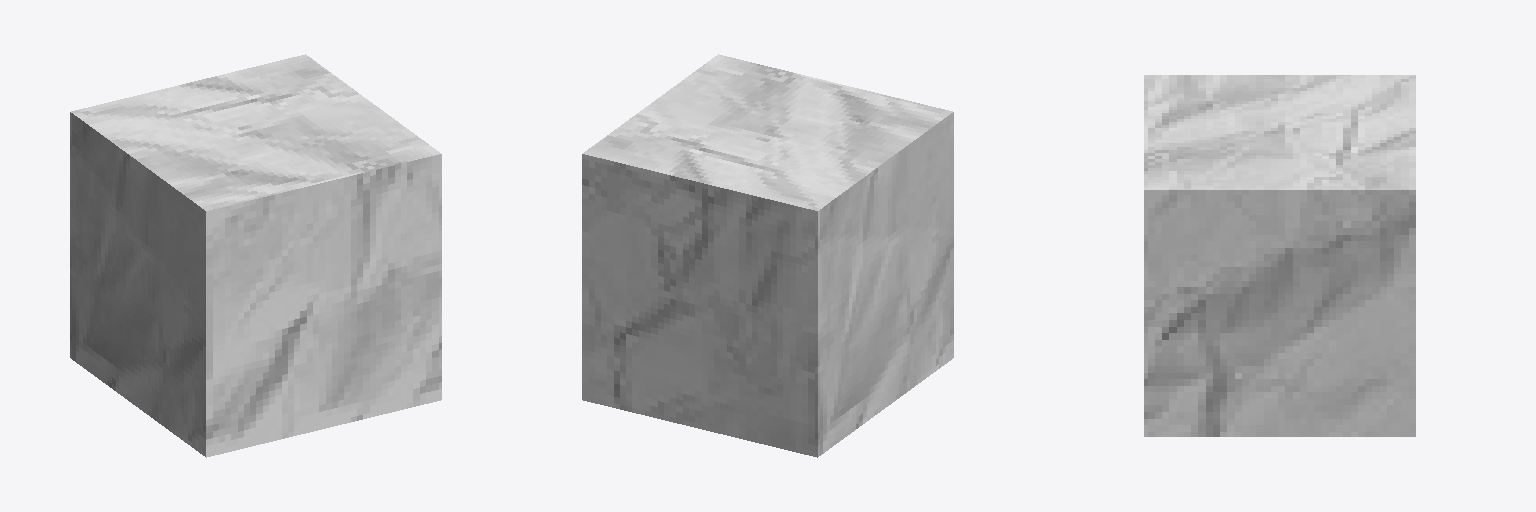
3 renders of one model, left to right at view 1: azimuth 30°, elevation 25°; view 2: azimuth 150°, elevation 25°; view 3: azimuth 270°, elevation 25°, orthographic.
Parts seen in each view (by area): view 1: Cube; view 2: Cube; view 3: Cube.
Part boxes in pixels (x1,y1,x2,y2): Cube: (70, 54, 441, 457); Cube: (582, 54, 953, 457); Cube: (1144, 75, 1415, 436).
Size of the model in its own units: 2 by 2 by 2.
Materials: 1 (1 with a texture image).